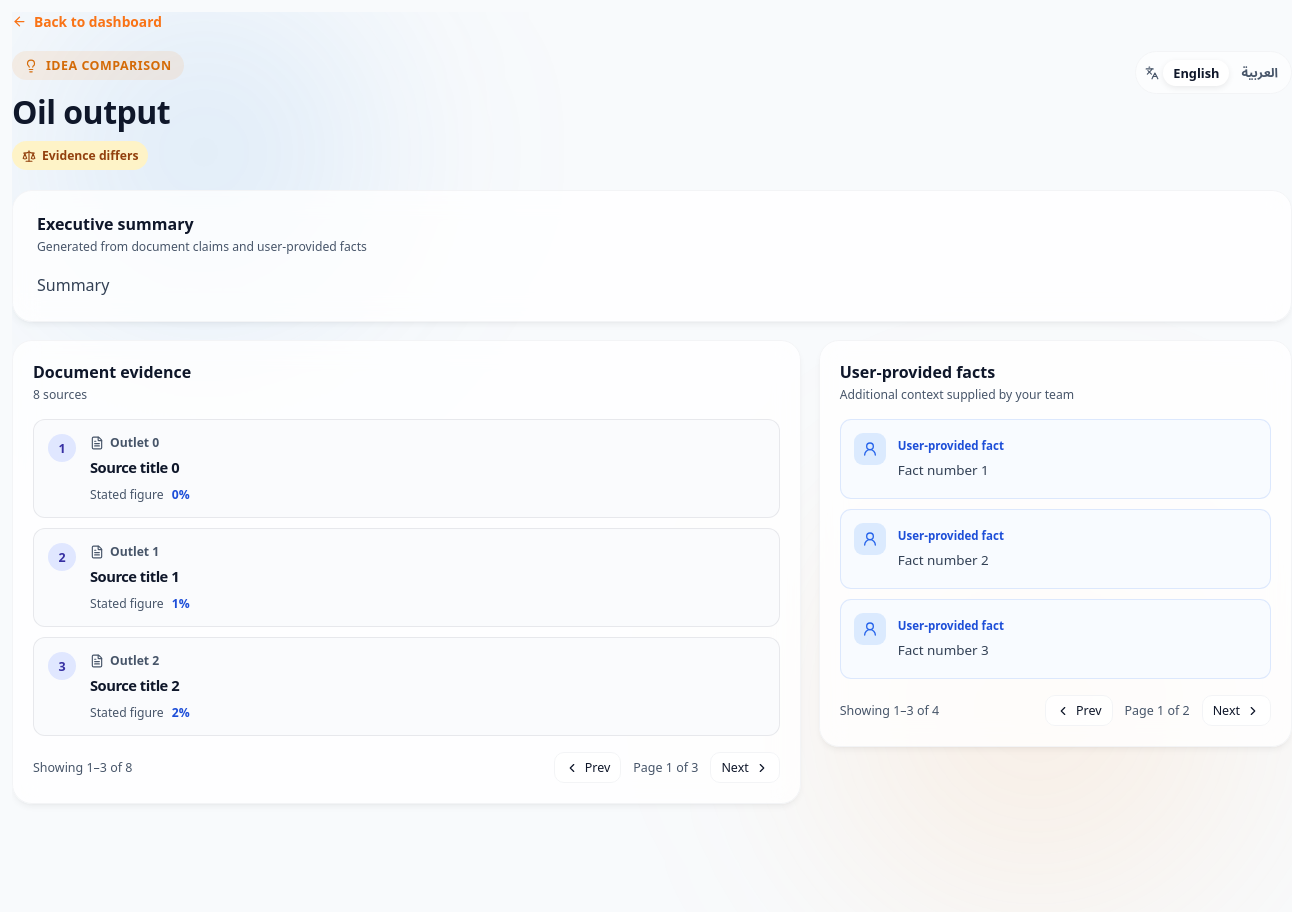
Test: IdeaComparisonDetailPage pagination › pages user-provided facts once there are more than 3, independently of document evidence
This screenshot has width=1292, height=912.
Expected: the text "Fact number 1" is shown, top-left (898, 461), bottom-right (989, 479)
Expected: the text "Fact number 3" is shown, top-left (898, 641), bottom-right (989, 659)
Step 1. Click the button with aria-label "Next user-provided facts page" → [1236, 711], box top-left (1202, 696), bottom-right (1271, 726)
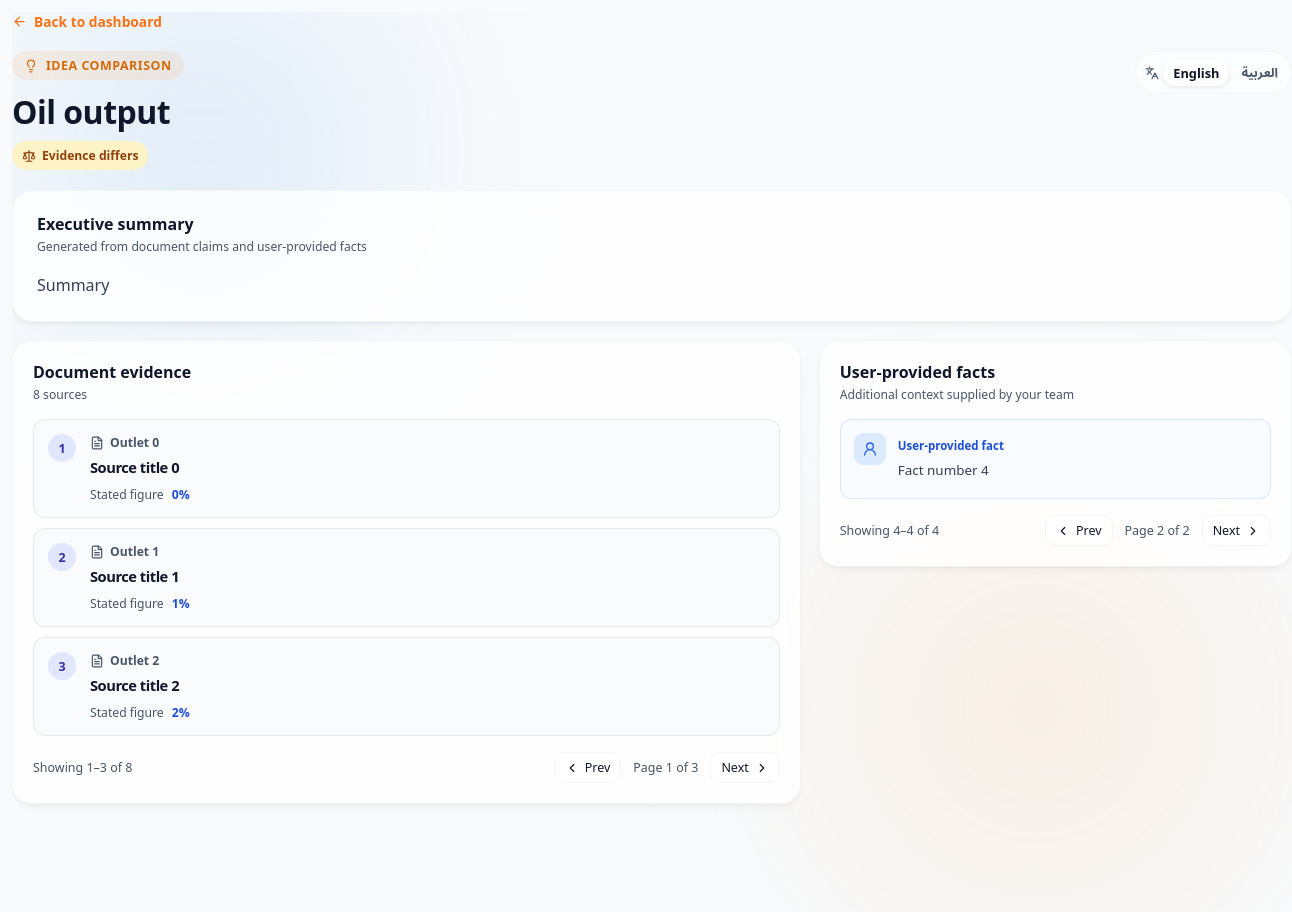
Expected: the text "Page 1 of 3" is shown, top-left (633, 759), bottom-right (698, 776)
Result: the text "Fact number 4" is shown at top-left (898, 461), bottom-right (989, 479)
Result: the text "Fact number 1" is gone
